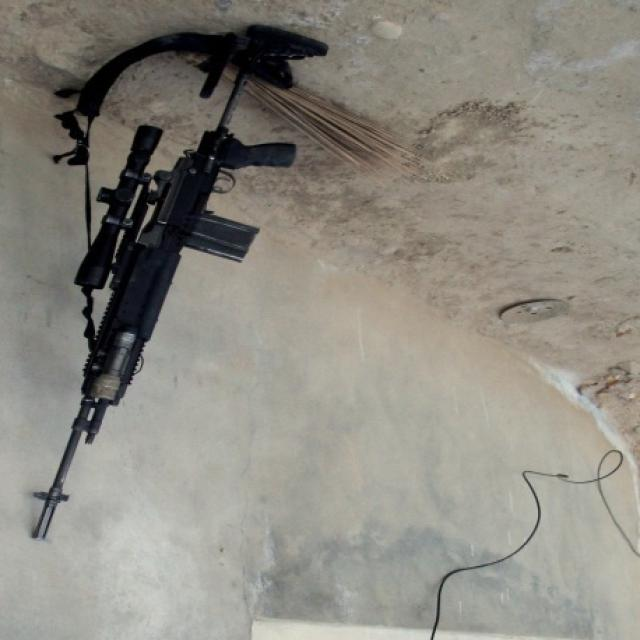Gun: (10, 19, 318, 546)
